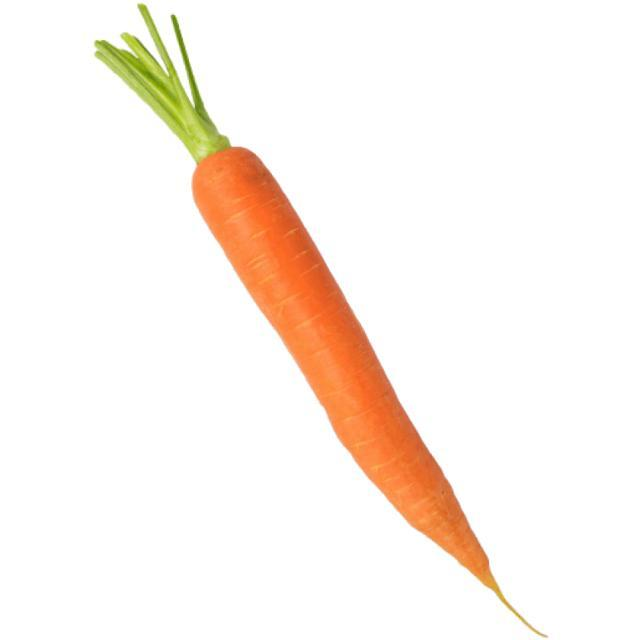Carrot: (184, 148, 564, 640)
